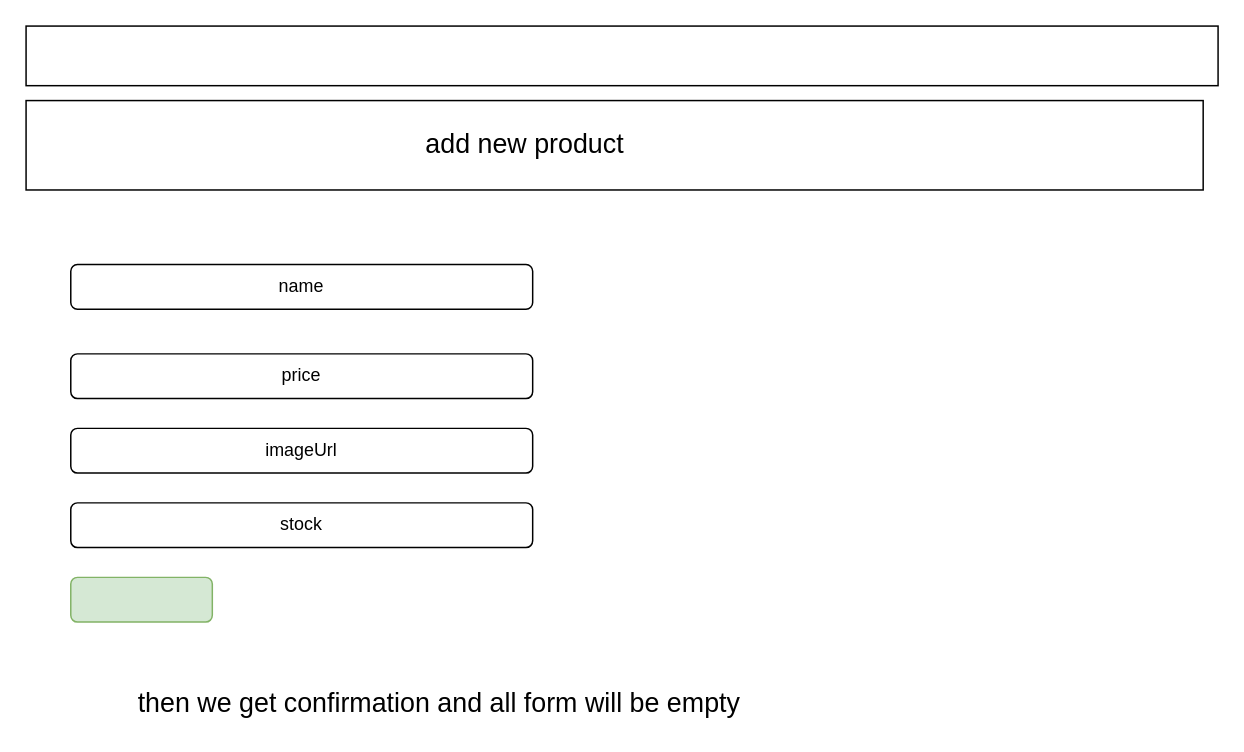
Image size: 1244x752. Some labels were removed from this diagram. The centre of each missing label's shape, as x and y in pixels:
http://localhost:5000/admin/products/item: pixel 621 55
submit: pixel 140 599
